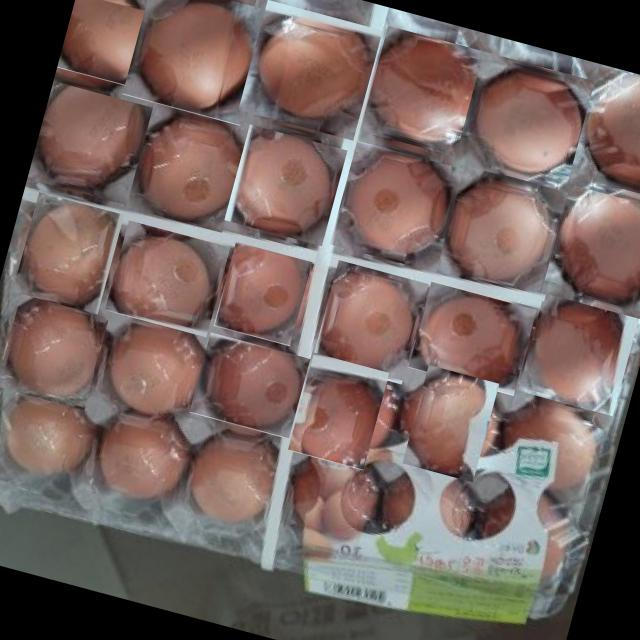eggs: (454, 50, 600, 196), (238, 0, 381, 140), (436, 160, 574, 302), (122, 0, 270, 126), (330, 139, 466, 275), (360, 24, 496, 160), (123, 100, 253, 230), (26, 79, 154, 208), (222, 124, 346, 247), (516, 294, 638, 416), (104, 220, 230, 338), (407, 282, 536, 396), (308, 262, 429, 382), (97, 306, 217, 426), (538, 178, 640, 318), (9, 194, 127, 312), (0, 289, 112, 408), (192, 328, 307, 442), (488, 394, 610, 500), (85, 402, 201, 512), (284, 356, 394, 466), (396, 368, 504, 476), (564, 67, 640, 211), (54, 0, 162, 99), (184, 420, 280, 530), (212, 242, 314, 344), (0, 392, 103, 487)
